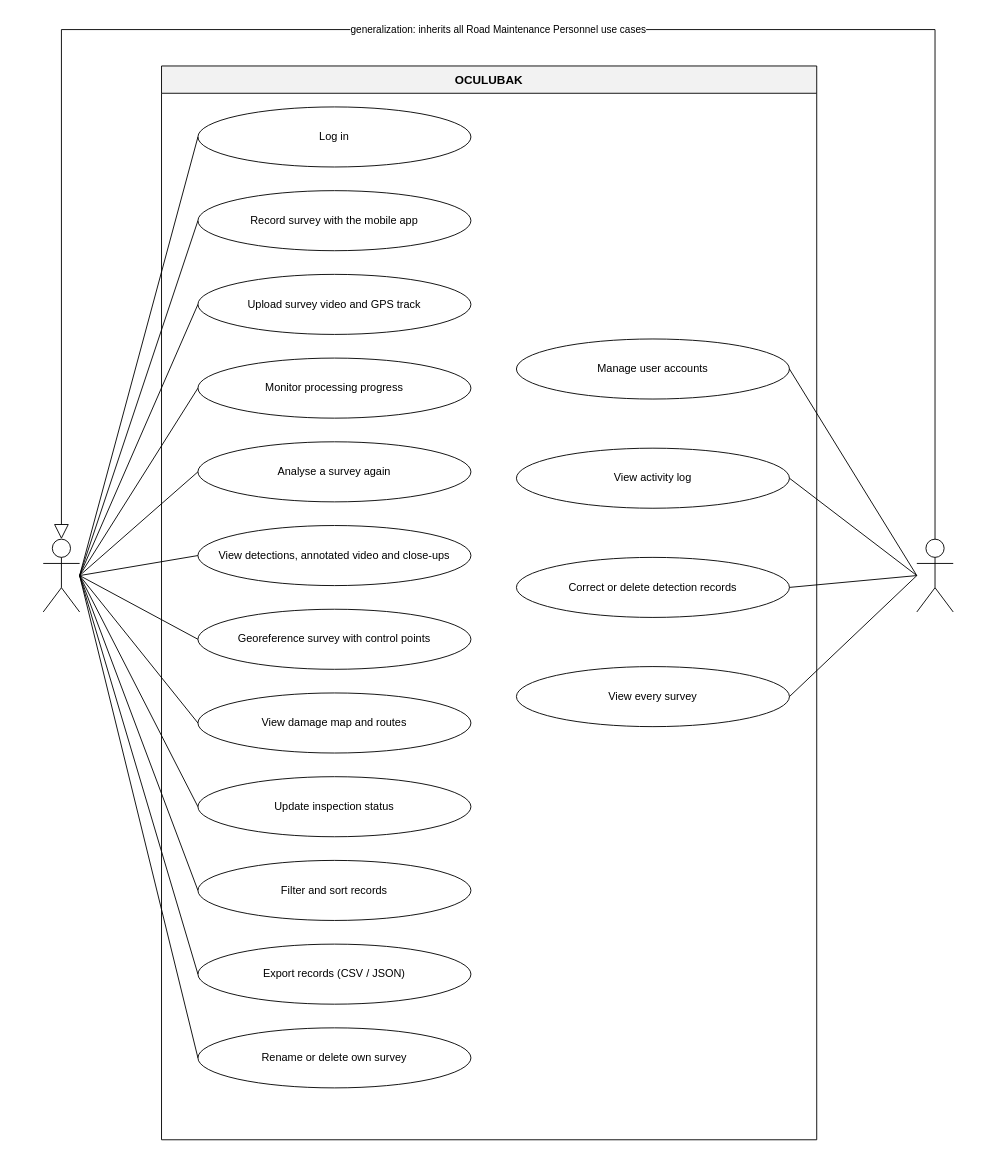
This 983x1156 diagram has some shape labels left out. The box of each missing label's shape, as (x1, y1, x2, y2) in pixels:
Road Maintenance Personnel: (42, 538, 80, 612)
System Administrator: (916, 538, 953, 612)
